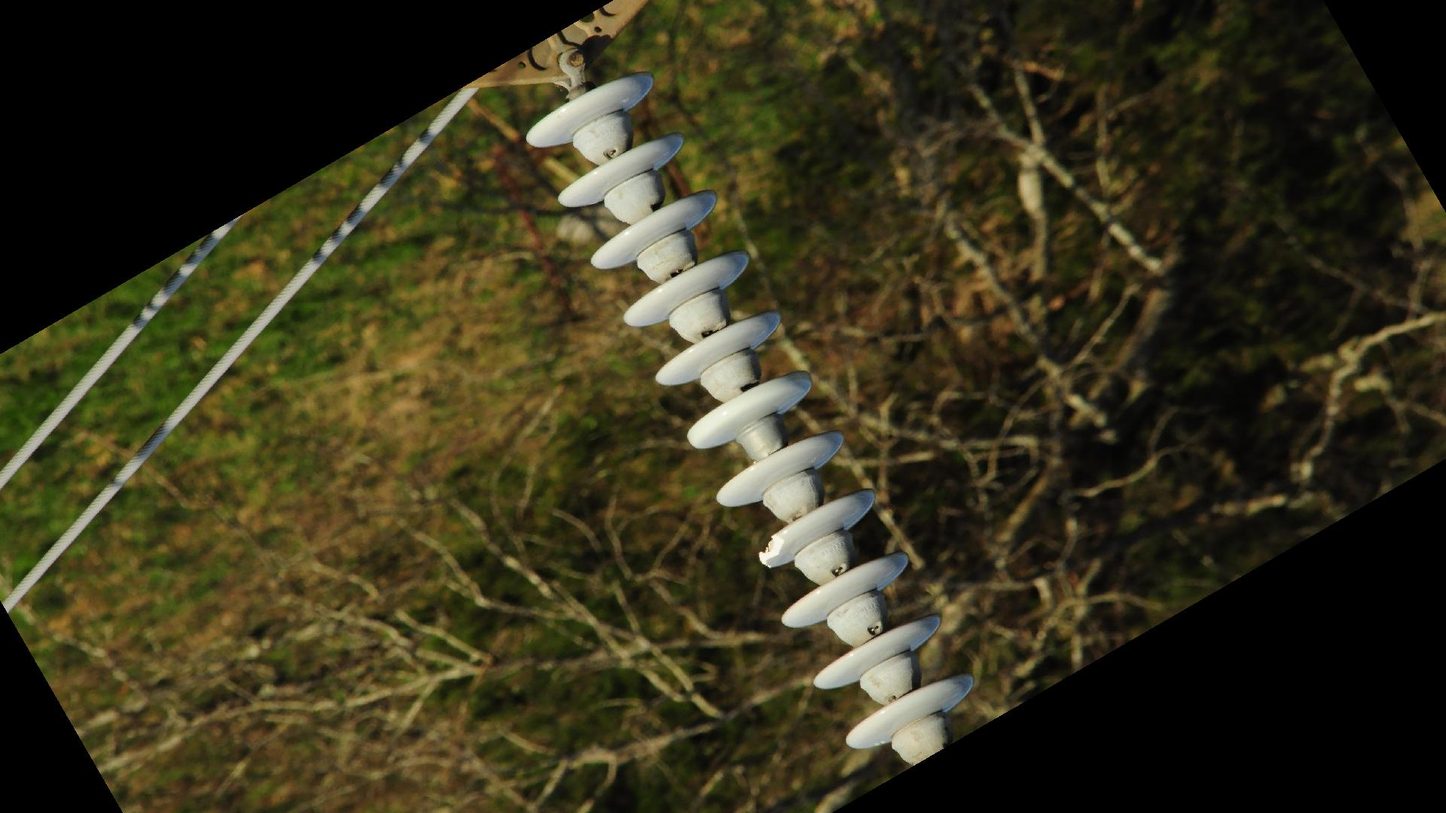insulator: (521, 67, 981, 754)
insulator_breakage: (755, 527, 789, 573)
